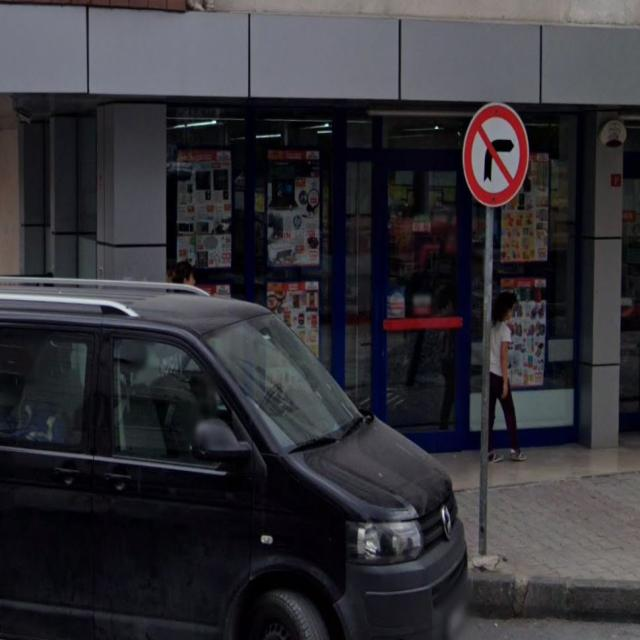sagadonulmez: (464, 102, 528, 206)
